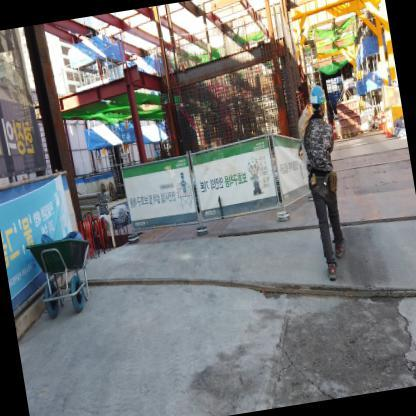safety-shoe: (322, 259, 345, 287)
